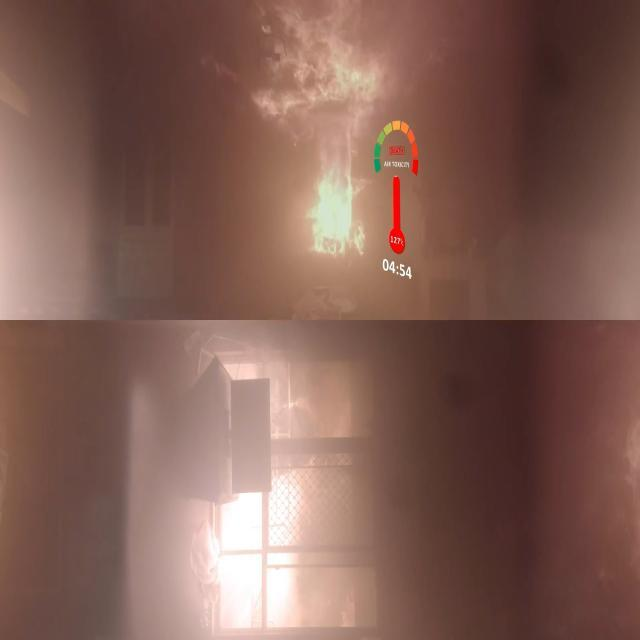Fire: (253, 18, 424, 298)
